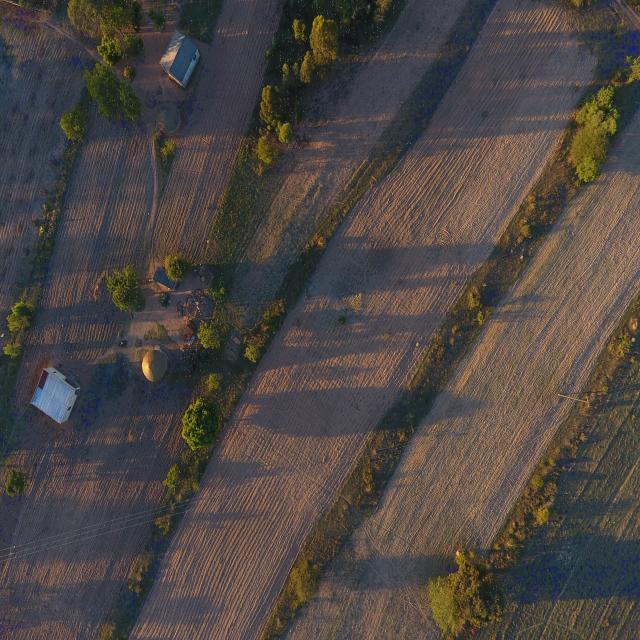boundaries: (270, 66, 458, 319), (107, 482, 209, 628)
